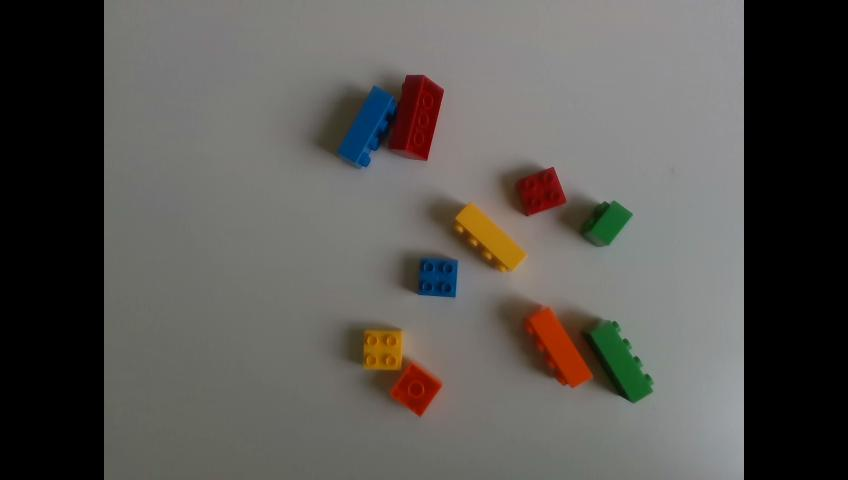2x2_blue: (420, 258, 457, 296)
2x2_green: (584, 200, 633, 245)
2x2_orange: (391, 363, 441, 416)
2x2_red: (516, 165, 566, 215)
2x2_yellow: (364, 330, 403, 368)
4x2_blue: (338, 88, 397, 167)
4x2_green: (584, 318, 654, 401)
4x2_orange: (526, 305, 593, 386)
4x2_red: (387, 74, 443, 159)
4x2_yellow: (456, 201, 527, 270)
